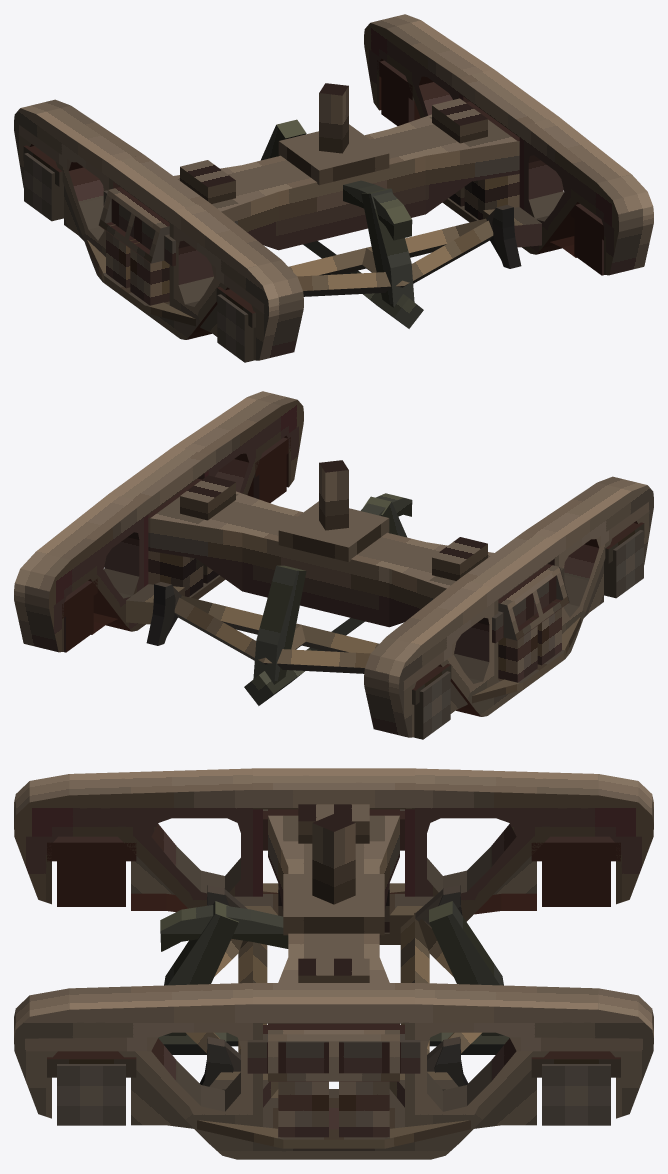
Rendered from mkz_frame.obj.
3 renders of one model, top to bottom at view 1: azimuth 30°, elevation 25°; view 2: azimuth 150°, elevation 25°; view 3: azimuth 270°, elevation 25°, orthographic. The views are drawn at different scales.
Parts seen in each view (by area): view 1: frame; view 2: frame; view 3: frame.
Part boxes in pixels (box(x1,y1,x2,y2)): frame: box(14, 14, 653, 362); frame: box(14, 391, 653, 739); frame: box(14, 768, 653, 1159).
Size of the model in its own units: 1.87 by 0.7882 by 1.97.
